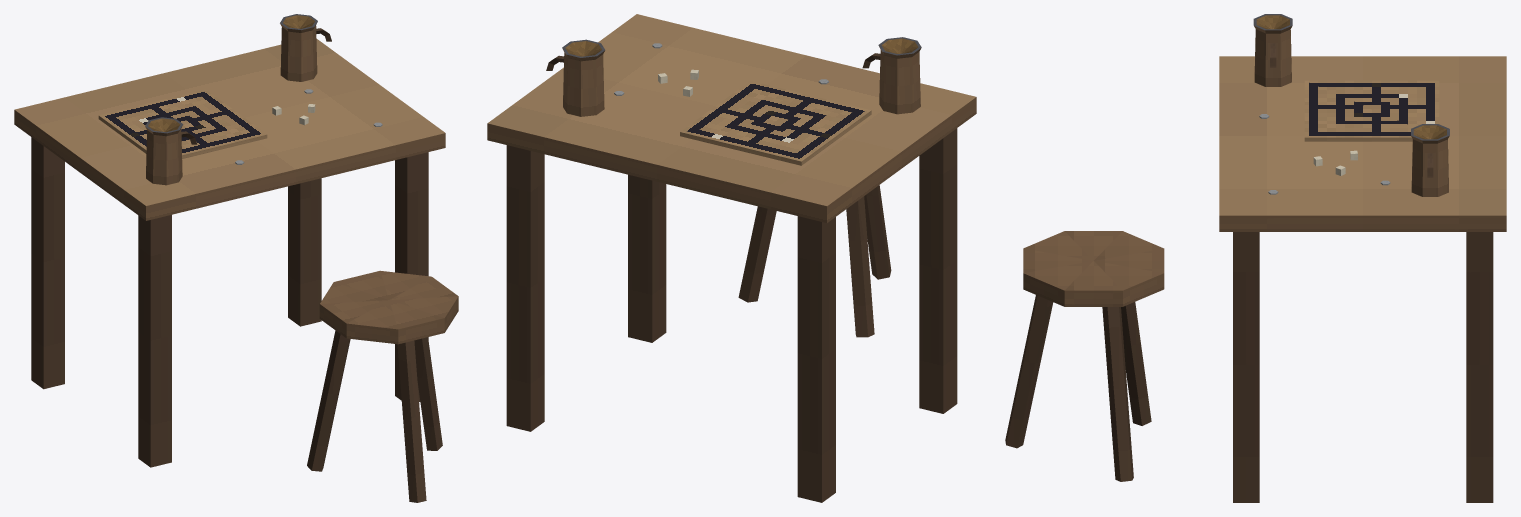
Rendered from gaming-table.glb.
3 renders of one model, left to right at view 1: azimuth 30°, elevation 25°; view 2: azimuth 150°, elevation 25°; view 3: azimuth 270°, elevation 25°, orthographic. The views are drawn at different scales.
Parts seen in each view (by area): view 1: table.001, stool.001; view 2: table.001, stool.001; view 3: table.001, stool.001.
Part boxes in pixels (x1,y1,x2,y2): table.001: (14, 14, 445, 467); stool.001: (307, 270, 458, 502); table.001: (487, 14, 976, 502); stool.001: (738, 185, 891, 337); table.001: (1219, 14, 1506, 502); stool.001: (1005, 231, 1164, 481).
Bounding box in the file's own units: 0.84 × 0.864 × 1.12.
Materials: 1 (1 with a texture image).
